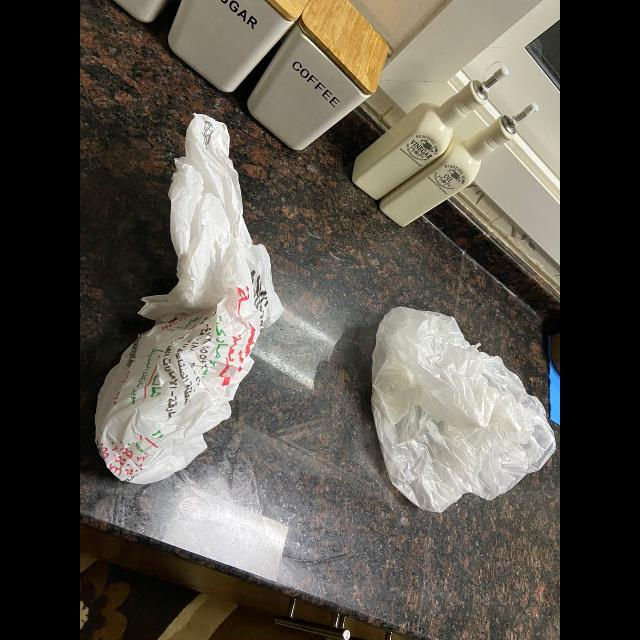plastic_bag: (93, 110, 285, 482), (370, 300, 556, 514)
